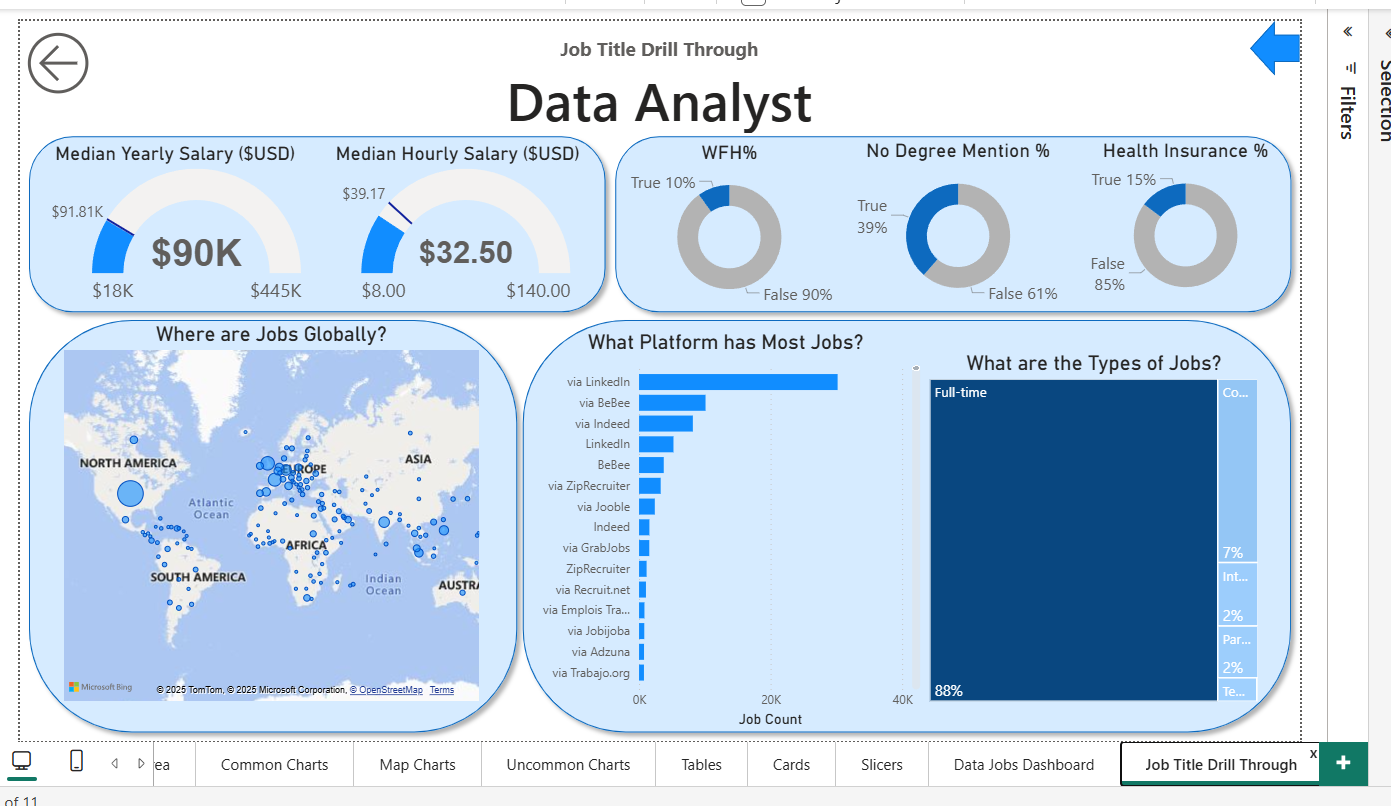

The page's visual inventory and layout, read from the dashboard file:
{"tool":"powerbi","page":{"name":"Job Title Drill Through","canvas":[1280,720],"ordinal":10},"visuals":[{"type":"group","id":"g1","title":"Background","box":[0,105.7,1280,614.5],"z":500},{"type":"cardVisual","fields":{"Data":["Min(job_postings_flat.job_title_short)1"]},"box":[233.9,0,811.1,129.4],"z":1000},{"type":"actionButton","box":[0,0,76.2,85],"z":2000},{"type":"gauge","title":"Median Yearly Salary ($USD)","fields":{"Y":["Median(job_postings_flat.salary_year_avg)"],"MinValue":["Min(job_postings_flat.salary_year_avg)1"],"MaxValue":["Max(job_postings_flat.salary_year_avg)2"],"TargetValue":["Avg(job_postings_flat.salary_year_avg)3"]},"box":[6.4,120.9,297.3,170.9],"z":4000},{"type":"gauge","title":"Median Hourly Salary ($USD)","fields":{"MinValue":["Min(job_postings_flat.salary_hour_avg)"],"Y":["Median(job_postings_flat.salary_hour_avg)"],"MaxValue":["Max(job_postings_flat.salary_hour_avg)"],"TargetValue":["Avg(job_postings_flat.salary_hour_avg)"]},"box":[288.2,120.9,297.3,170.9],"z":6000},{"type":"donutChart","title":"WFH%","fields":{"Category":["job_postings_flat.job_work_from_home"],"Y":["CountNonNull(job_postings_flat.job_work_from_home)"]},"box":[594.5,120,229.1,170.9],"z":7000},{"type":"donutChart","title":"No Degree Mention %","fields":{"Y":["CountNonNull(job_postings_flat.job_no_degree_mention)"],"Category":["job_postings_flat.job_no_degree_mention"]},"box":[823.6,119.1,229.1,170.9],"z":8000},{"type":"donutChart","title":"Health Insurance %","fields":{"Y":["CountNonNull(job_postings_flat.job_health_insurance)"],"Category":["job_postings_flat.job_health_insurance"]},"box":[1050.9,119.1,229.1,170],"z":9000},{"type":"map","title":"Where are Jobs Globally?","fields":{"Category":["job_postings_flat.job_country"],"Size":["CountNonNull(job_postings_flat.job_title_short)"]},"box":[38.2,300.9,425.5,384.5],"z":10000},{"type":"treemap","title":"What are the Types of Jobs?","fields":{"Group":["job_postings_flat.job_schedule_type"],"Values":["CountNonNull(job_postings_flat.job_schedule_type)"]},"box":[905.5,330,338.2,355.5],"z":11000},{"type":"barChart","title":"What Platform has Most Jobs?","fields":{"Category":["job_postings_flat.job_via"],"Y":["CountNonNull(job_postings_flat.job_via)"]},"box":[506.4,308.2,399.1,402.7],"z":12000},{"type":"shape","box":[1230.2,0,49.8,54.7],"z":12001},{"type":"shape","box":[585.9,105.7,694.1,194.1],"z":12125,"group":"g1"},{"type":"shape","box":[493.9,289.8,786.2,430.4],"z":12250,"group":"g1"},{"type":"shape","box":[0,105.7,594.6,194.1],"z":12500,"group":"g1"},{"type":"shape","box":[0,289.8,506.3,430.4],"z":13000,"group":"g1"}]}

Visuals, with their boxes on the page's 1280x720 design canvas (x1, y1, x2, y2). These are canvas units, not pixel positions in the 1391x806 screenshot, which may show the page scaled, cropped or inside an application window:
"Background" group: (0, 106, 1280, 720)
cardVisual - Min(job_postings_flat.job_title_short)1: (234, 0, 1045, 129)
actionButton: (0, 0, 76, 85)
"Median Yearly Salary ($USD)" gauge: (6, 121, 304, 292)
"Median Hourly Salary ($USD)" gauge: (288, 121, 586, 292)
"WFH%" donutChart: (594, 120, 824, 291)
"No Degree Mention %" donutChart: (824, 119, 1053, 290)
"Health Insurance %" donutChart: (1051, 119, 1280, 289)
"Where are Jobs Globally?" map: (38, 301, 464, 685)
"What are the Types of Jobs?" treemap: (906, 330, 1244, 686)
"What Platform has Most Jobs?" barChart: (506, 308, 906, 711)
shape: (1230, 0, 1280, 55)
shape: (586, 106, 1280, 300)
shape: (494, 290, 1280, 720)
shape: (0, 106, 595, 300)
shape: (0, 290, 506, 720)
